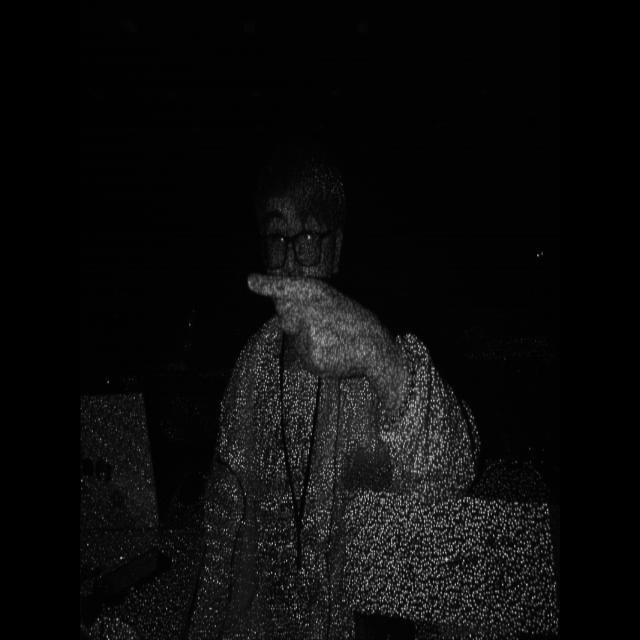G: (236, 250, 405, 396)
